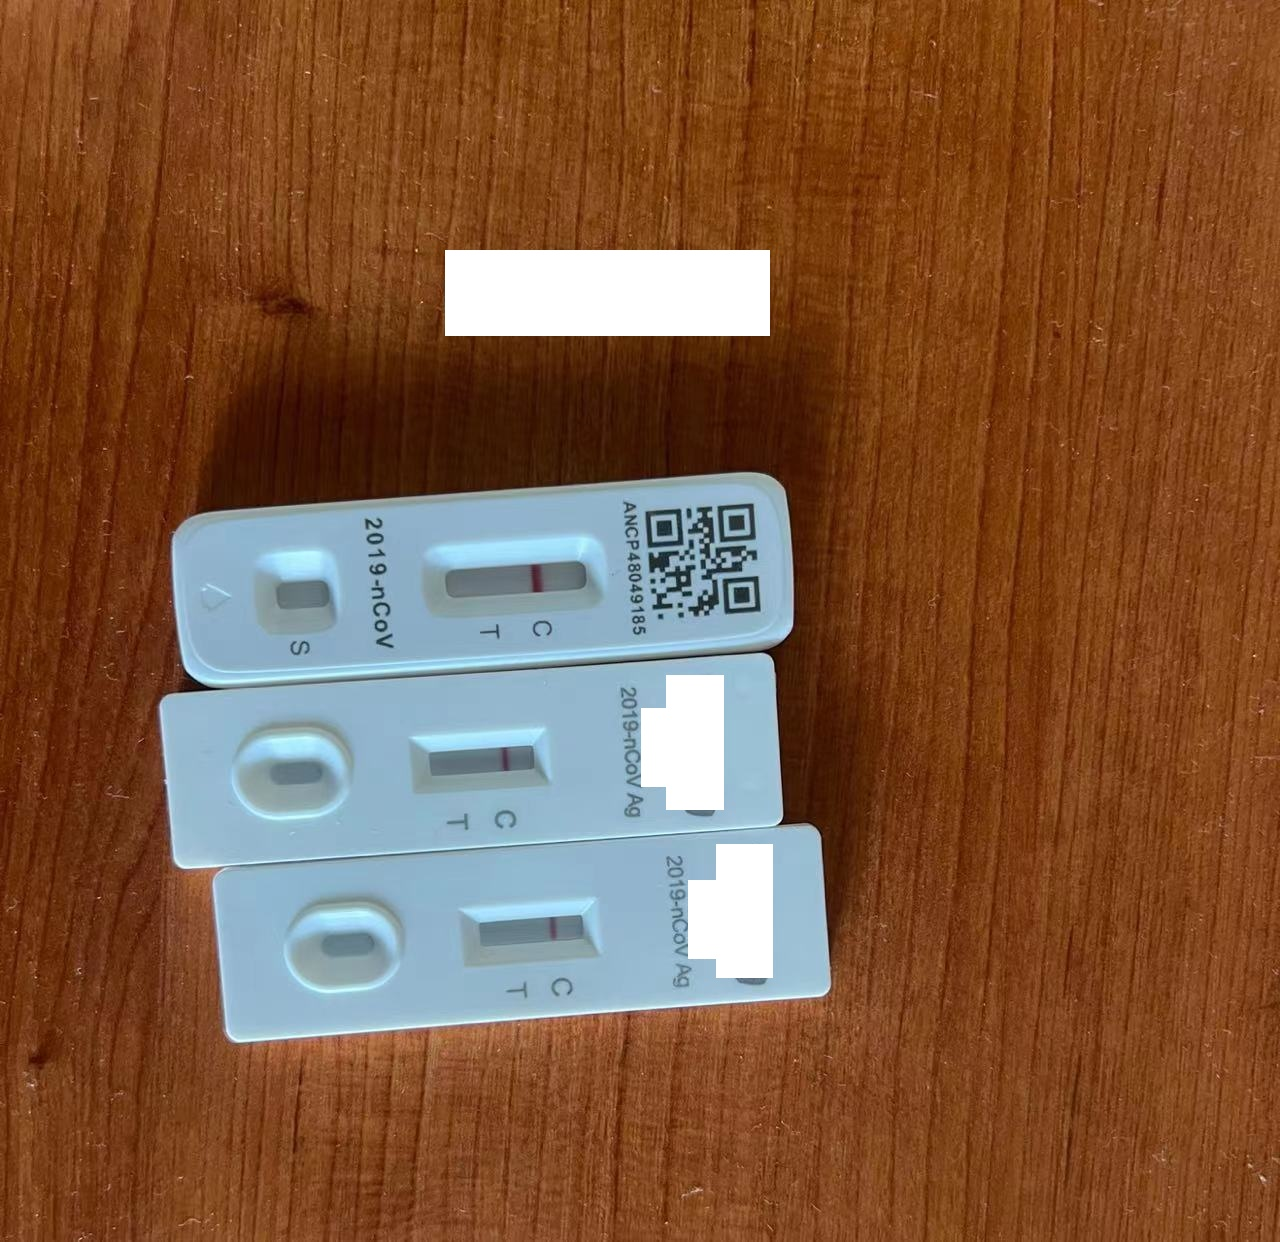negative: (424, 536, 610, 610), (407, 722, 559, 790), (459, 896, 606, 959)
